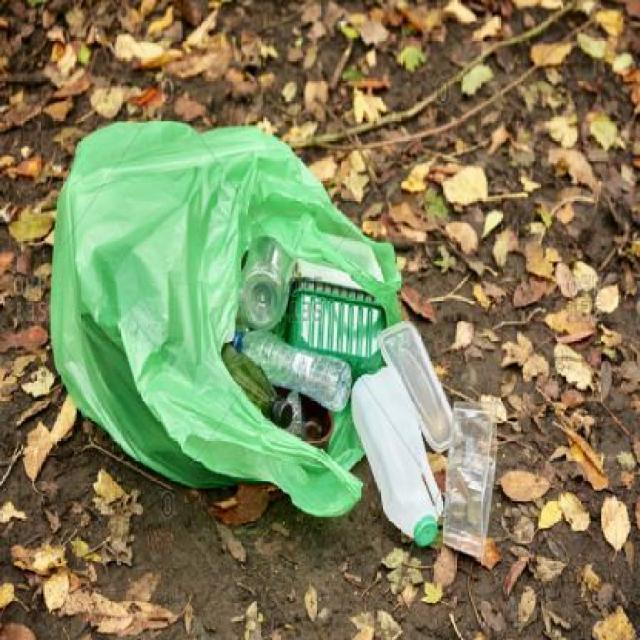plastic bag: (46, 101, 402, 594)
